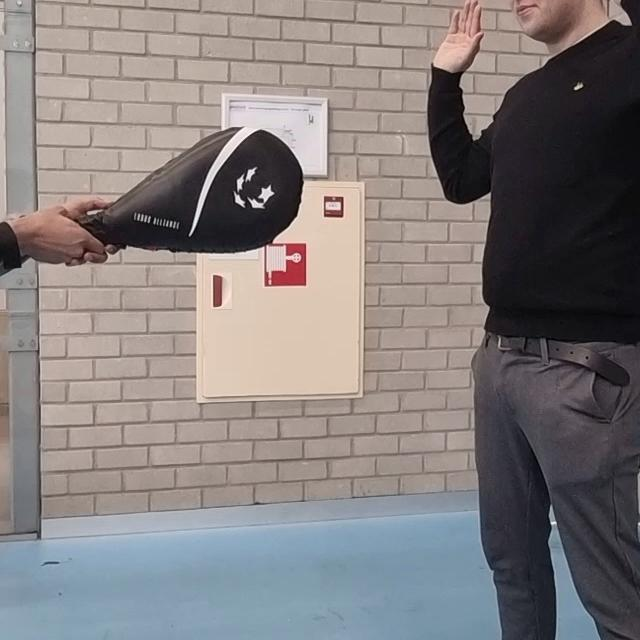paddle: (84, 126, 304, 252)
